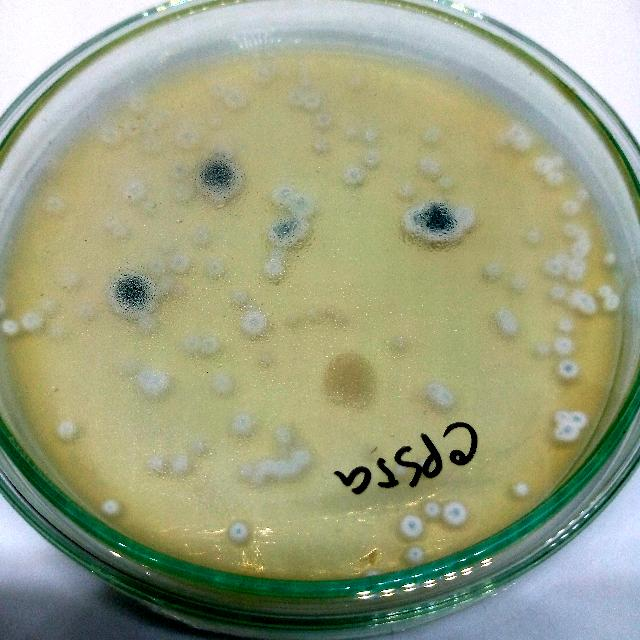colony: (319, 351, 379, 411), (105, 266, 159, 316), (196, 153, 244, 204), (264, 210, 314, 250), (422, 198, 463, 244), (130, 365, 173, 403), (238, 308, 274, 342), (256, 254, 288, 288), (38, 313, 72, 343), (216, 85, 250, 114), (94, 121, 125, 152), (52, 418, 84, 447), (162, 250, 195, 278), (440, 498, 470, 528), (123, 86, 153, 116), (492, 309, 524, 337), (40, 191, 72, 219), (169, 122, 201, 150), (399, 205, 427, 237), (396, 512, 426, 540), (553, 353, 581, 382), (119, 179, 148, 207), (338, 164, 367, 192), (194, 334, 222, 362), (227, 407, 253, 437), (356, 144, 386, 170), (97, 494, 123, 522), (201, 256, 227, 284), (414, 155, 442, 181), (74, 294, 100, 322), (225, 520, 252, 546), (271, 456, 297, 482), (120, 114, 146, 140), (552, 420, 580, 444), (54, 269, 82, 293), (268, 184, 296, 208), (170, 183, 197, 207), (288, 192, 316, 215), (311, 134, 334, 162), (272, 424, 298, 448), (143, 452, 169, 476), (212, 373, 236, 399), (338, 119, 362, 145), (456, 208, 479, 234), (392, 178, 416, 202), (169, 452, 193, 476), (288, 446, 314, 468), (184, 434, 210, 456), (387, 330, 413, 352), (104, 221, 130, 243), (132, 314, 158, 336), (252, 60, 278, 82), (361, 124, 384, 148), (510, 478, 532, 502), (250, 460, 274, 482), (528, 339, 552, 361), (142, 131, 164, 155), (420, 498, 442, 520), (568, 408, 590, 430), (601, 292, 623, 314), (505, 120, 527, 142), (312, 109, 334, 131), (302, 88, 324, 110), (1, 316, 22, 339), (553, 336, 577, 356), (554, 312, 576, 333), (481, 260, 502, 282), (21, 312, 44, 332), (419, 125, 439, 147), (562, 218, 584, 238), (302, 304, 324, 324), (551, 406, 571, 426), (546, 283, 566, 303), (513, 133, 533, 153), (140, 196, 160, 216), (435, 388, 455, 408), (404, 546, 426, 564), (298, 70, 316, 92), (436, 172, 456, 190), (547, 170, 565, 190), (560, 199, 580, 217), (566, 264, 586, 282), (336, 308, 356, 326), (508, 274, 526, 292), (546, 260, 564, 278), (282, 312, 300, 330), (36, 298, 56, 314), (323, 302, 339, 321), (596, 283, 614, 299), (601, 249, 617, 267), (536, 156, 552, 174), (576, 292, 594, 308), (426, 380, 442, 396), (574, 188, 588, 204), (572, 243, 588, 257), (554, 252, 570, 266), (526, 230, 540, 246), (582, 300, 598, 314), (550, 154, 564, 168), (569, 257, 585, 269), (579, 232, 593, 244)
